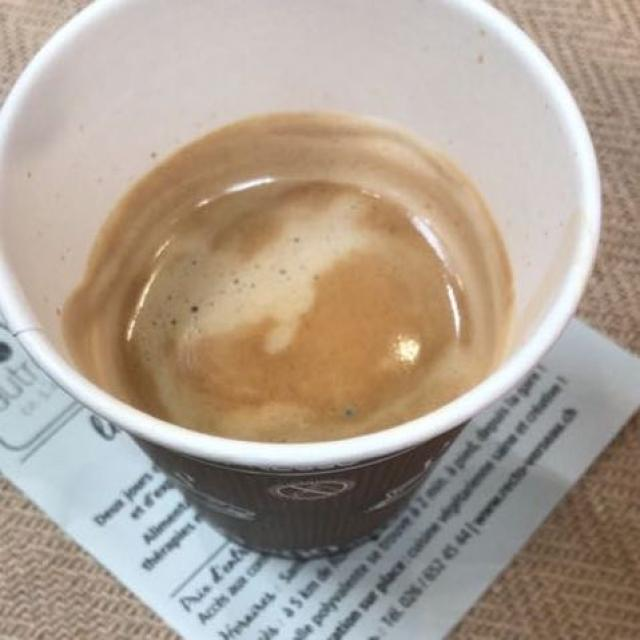espresso-with-caffeine: (96, 122, 511, 435)
